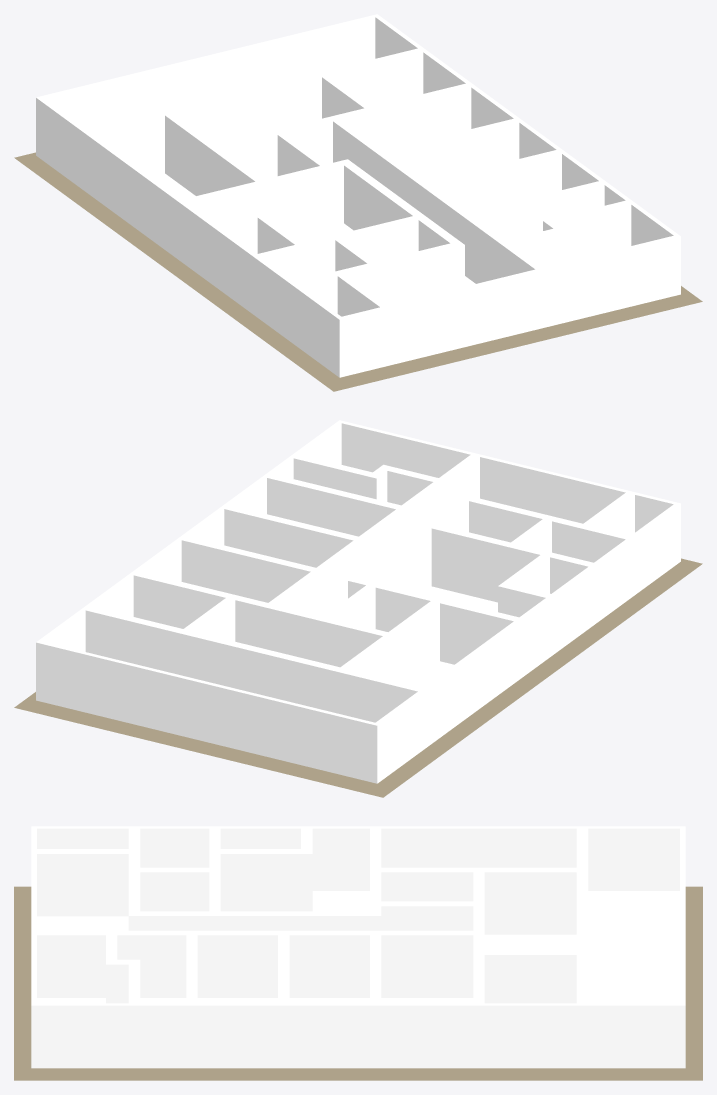
The model's file is overview.glb.
3 views of the same model, one above another, from view 1: azimuth 30°, elevation 25°; view 2: azimuth 150°, elevation 25°; view 3: azimuth 270°, elevation 25° (orthographic). The views are drawn at different scales.
Parts seen in each view (by area): view 1: 前台, 住院部, 处置室, 化验室, 专科检查室, floor, 档案室, 住院管理部, 手术室, 手术准备室, 药房, 诊室1 (+5 smaller); view 2: 住院部, 前台, 化验室, 专科检查室, floor, 住院管理部, 手术室, 处置室, 手术准备室, 药房, 诊室1, 档案室 (+5 smaller); view 3: 住院部, 前台, floor, 手术室, 处置室, 药房, 手术准备室, 病理解剖室, 专科检查室, 化验室, 住院管理部, 注射室 (+5 smaller).
Part boxes in pixels (left/top/right/bottom): 前台: left=280, top=118, right=542, bottom=365; 住院部: left=36, top=14, right=424, bottom=189; 处置室: left=506, top=201, right=680, bottom=327; 化验室: left=83, top=112, right=262, bottom=260; 专科检查室: left=179, top=162, right=419, bottom=283; floor: left=14, top=152, right=702, bottom=391; 档案室: left=291, top=273, right=387, bottom=377; 住院管理部: left=167, top=74, right=371, bottom=147; 手术室: left=335, top=84, right=520, bottom=152; 手术准备室: left=383, top=119, right=563, bottom=184; 药房: left=425, top=150, right=605, bottom=215; 诊室1: left=254, top=237, right=374, bottom=342; 住院部: left=36, top=607, right=425, bottom=783; 前台: left=271, top=454, right=632, bottom=619; 化验室: left=342, top=600, right=521, bottom=748; 专科检查室: left=355, top=525, right=553, bottom=677; floor: left=14, top=558, right=702, bottom=797; 住院管理部: left=185, top=597, right=389, bottom=670; 手术室: left=132, top=537, right=317, bottom=605; 处置室: left=292, top=420, right=477, bottom=480; 手术准备室: left=180, top=506, right=360, bottom=570; 药房: left=223, top=475, right=402, bottom=539; 诊室1: left=513, top=518, right=633, bottom=623; 档案室: left=585, top=492, right=680, bottom=595; 住院部: left=582, top=826, right=685, bottom=1068; 前台: left=31, top=851, right=478, bottom=932; floor: left=14, top=886, right=702, bottom=1080; 手术室: left=375, top=933, right=478, bottom=1068; 处置室: left=31, top=933, right=134, bottom=1068; 药房: left=192, top=933, right=283, bottom=1068; 手术准备室: left=284, top=933, right=375, bottom=1068; 病理解剖室: left=479, top=952, right=582, bottom=1068; 专科检查室: left=215, top=826, right=375, bottom=913; 化验室: left=375, top=826, right=582, bottom=869; 住院管理部: left=479, top=870, right=582, bottom=952; 注射室: left=111, top=933, right=191, bottom=1068.
Bounding box in the file's own units: 20 × 3.25 × 30.
